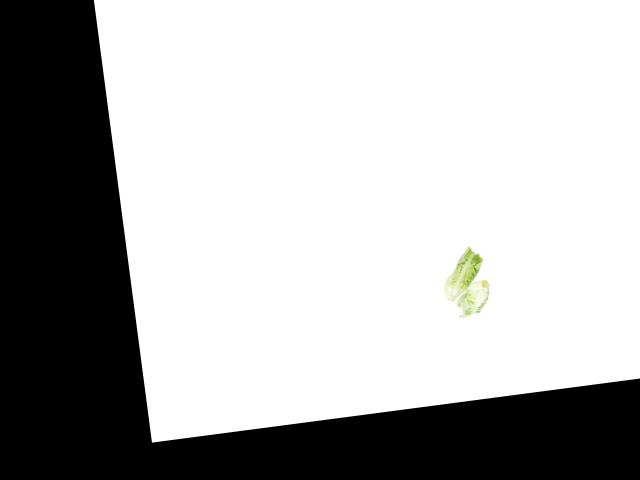lettuce: (452, 276, 498, 320)
